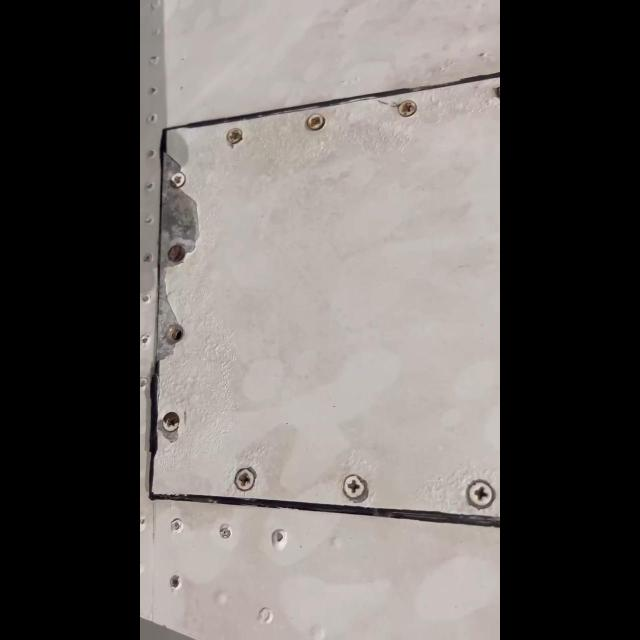Missing Fastener: (160, 321, 188, 345)
